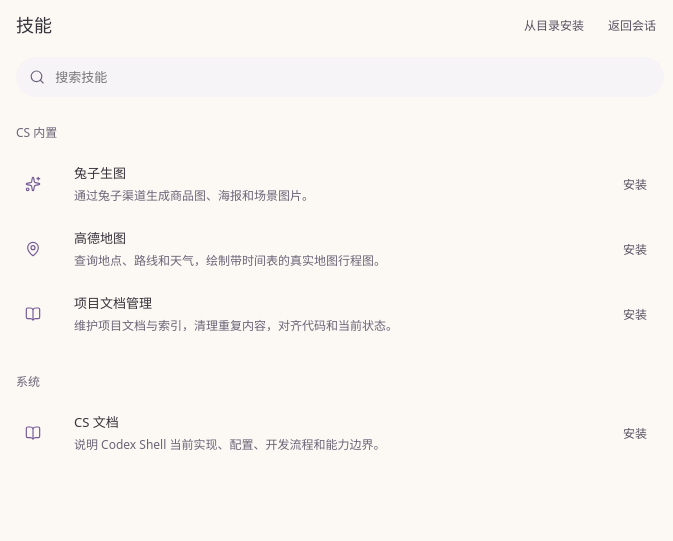
Test: reports an unsuccessful default disable: policy
Click the button "安装" in the row of "维护项目文档与索引，清理重复内容，对齐代码和当前状态。" at coordinates (635, 314), box x1=614 y1=298 x2=656 y2=328
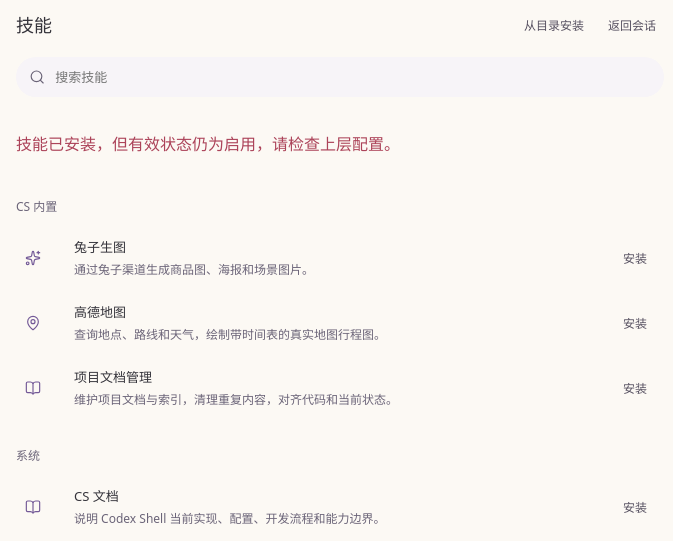
Expected: the message shows "有效状态仍为启用", x1=16 y1=133 x2=400 y2=155
